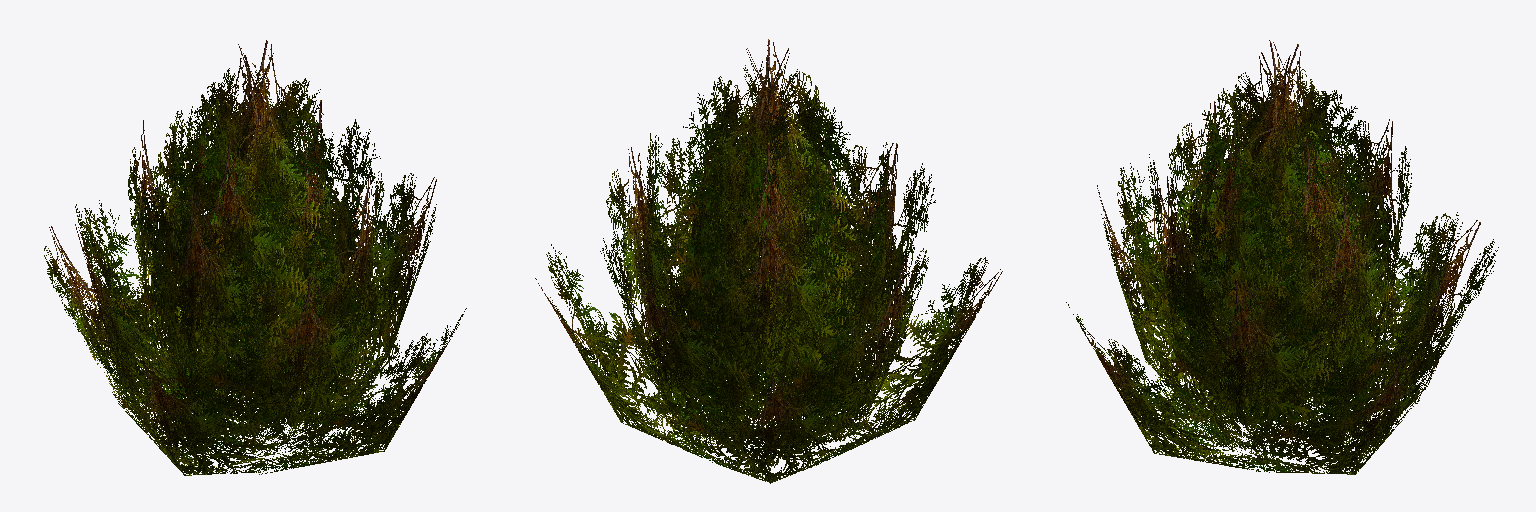
3 renders of one model, left to right at view 1: azimuth 30°, elevation 25°; view 2: azimuth 150°, elevation 25°; view 3: azimuth 270°, elevation 25°, orthographic.
Parts seen in each view (by area): view 1: Pine; view 2: Pine; view 3: Pine.
Part boxes in pixels (left/top/right/bottom): Pine: left=44, top=40, right=466, bottom=475; Pine: left=535, top=39, right=1002, bottom=483; Pine: left=1066, top=40, right=1498, bottom=474.
Bounding box in the file's own units: 40.11 × 40.03 × 40.11.
1 materials, 1 textured.